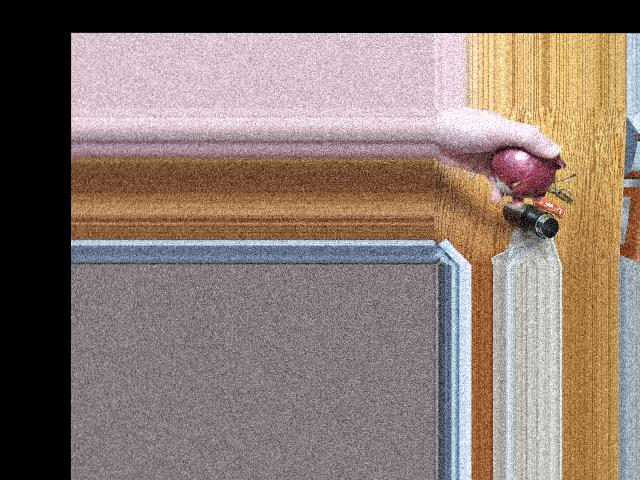onion: (495, 143, 554, 191)
